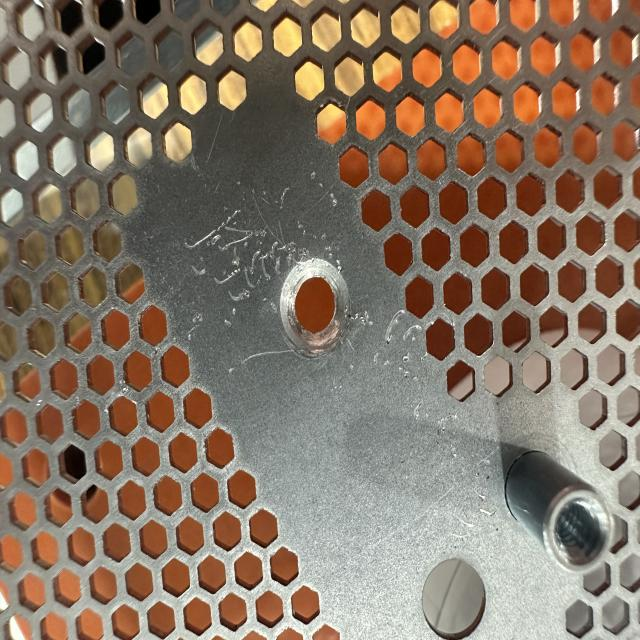Missing screw: (272, 252, 366, 364)
